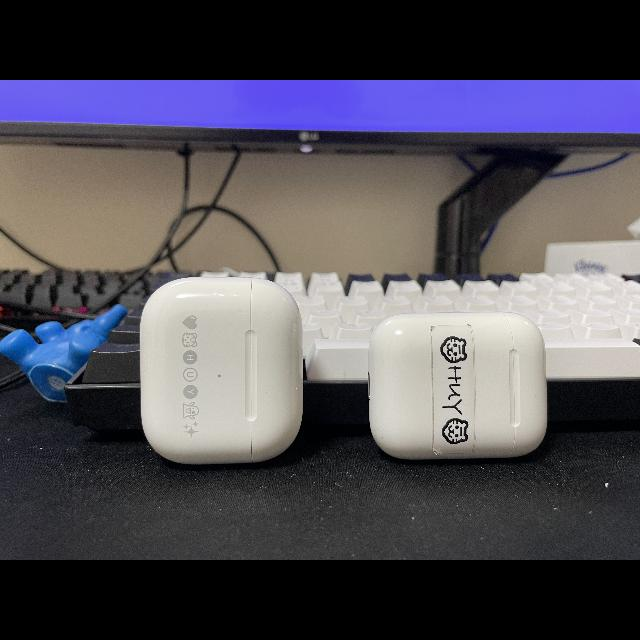airpod2: (364, 308, 556, 464)
airpod3: (136, 270, 308, 468)
